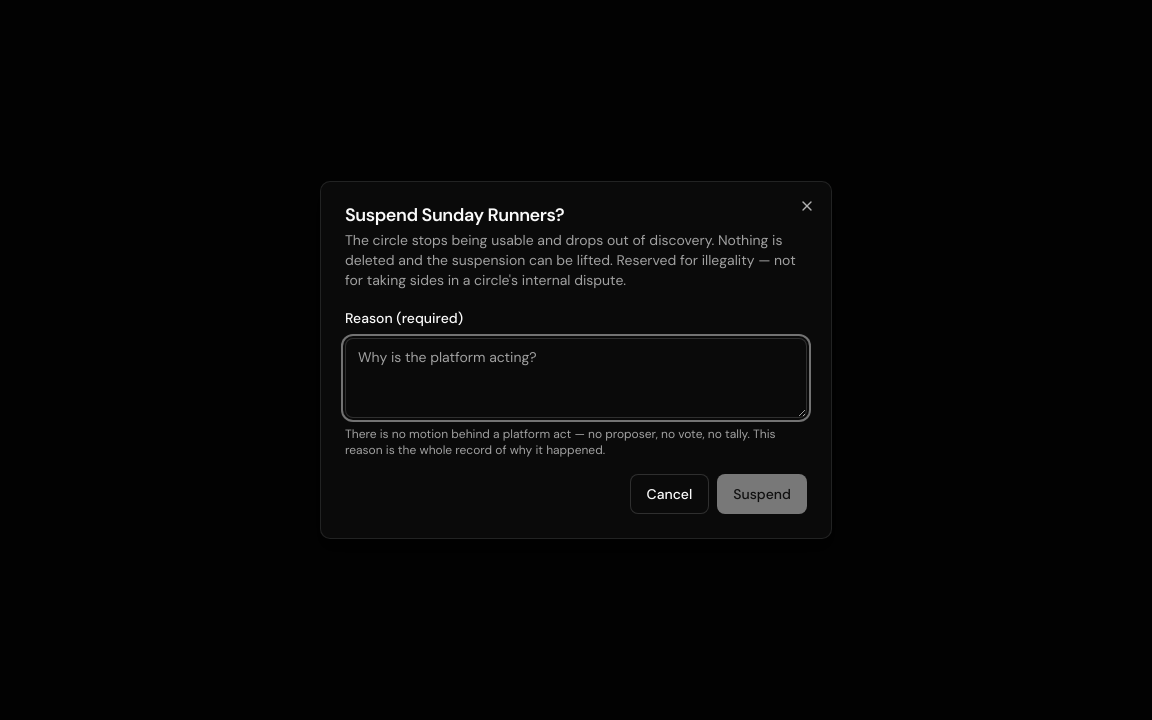
Scenario: CircleActionDialogs › never shows a success toast when the server refuses (errorPolicy 'all' resolves the refusal)
The width and height of the screenshot is (1152, 720).
In the text box labelled "Reason (required)": (576, 378) [345,338,807,418], type "Spam"
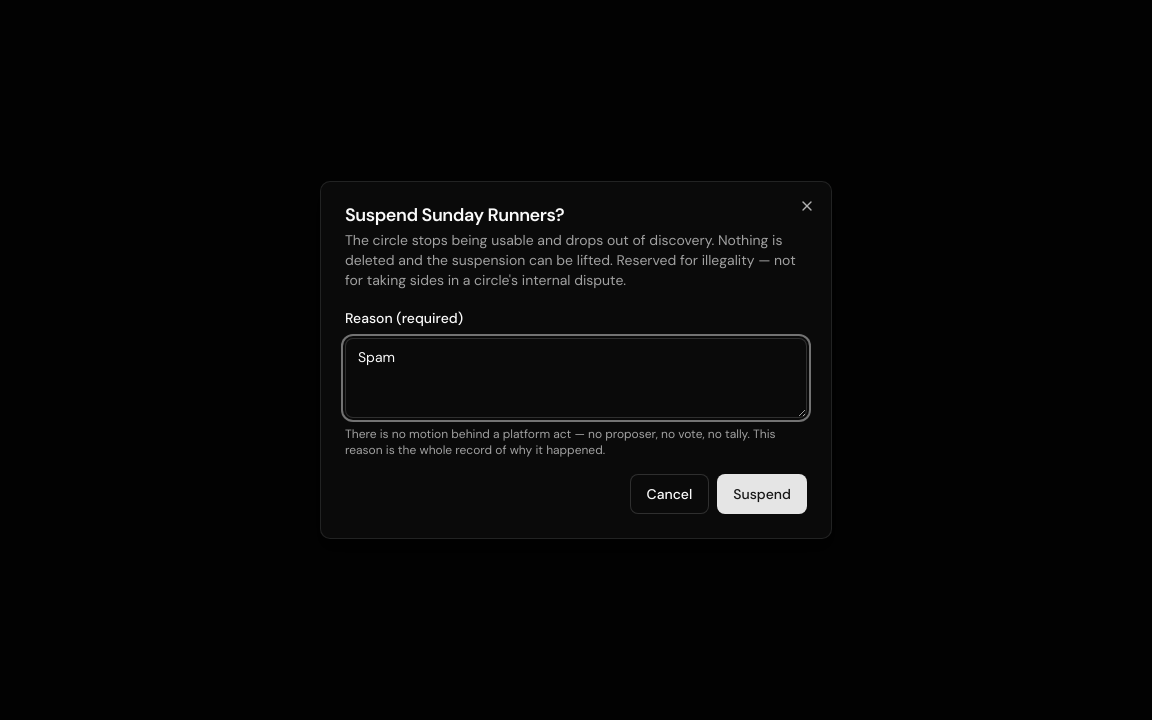
Click the button "Suspend": (762, 494) [717,474,807,514]
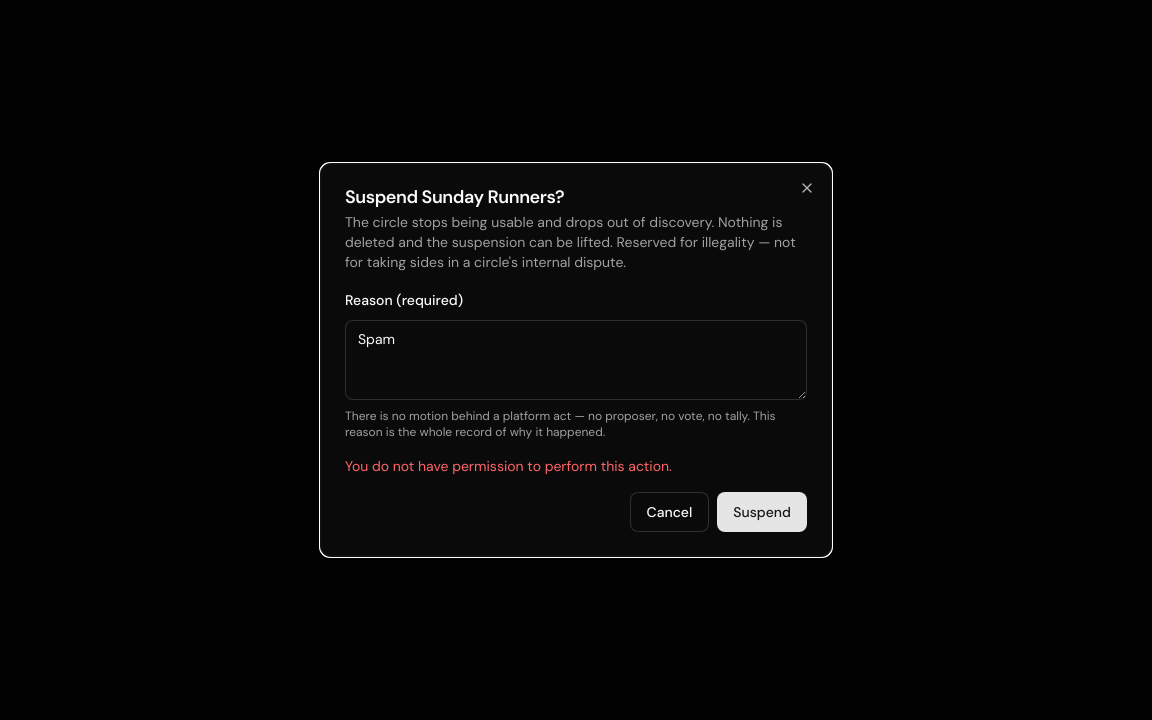
Expected: the message shows "do not have permission", [345,457,672,475]
